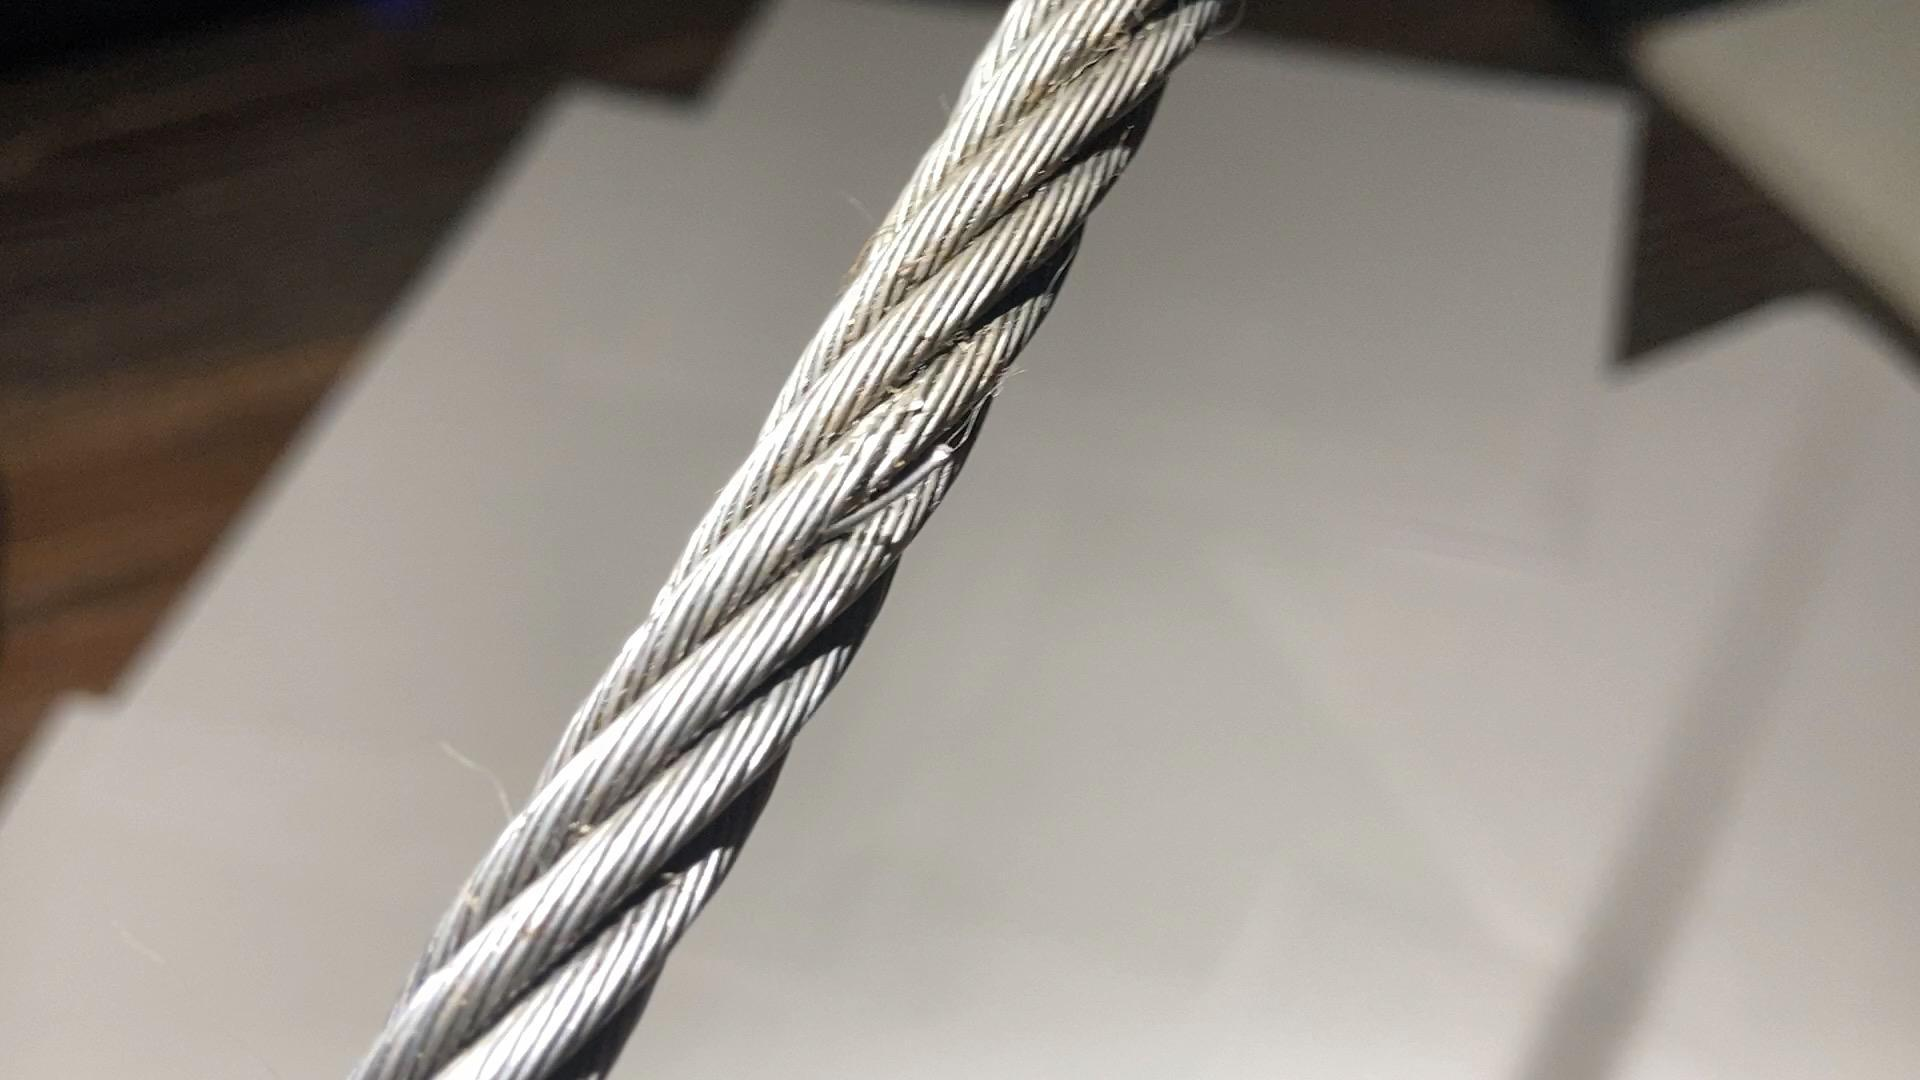break: (815, 427, 957, 556)
